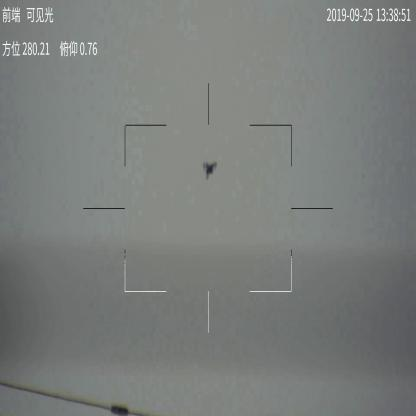uav: (202, 158, 218, 180)
